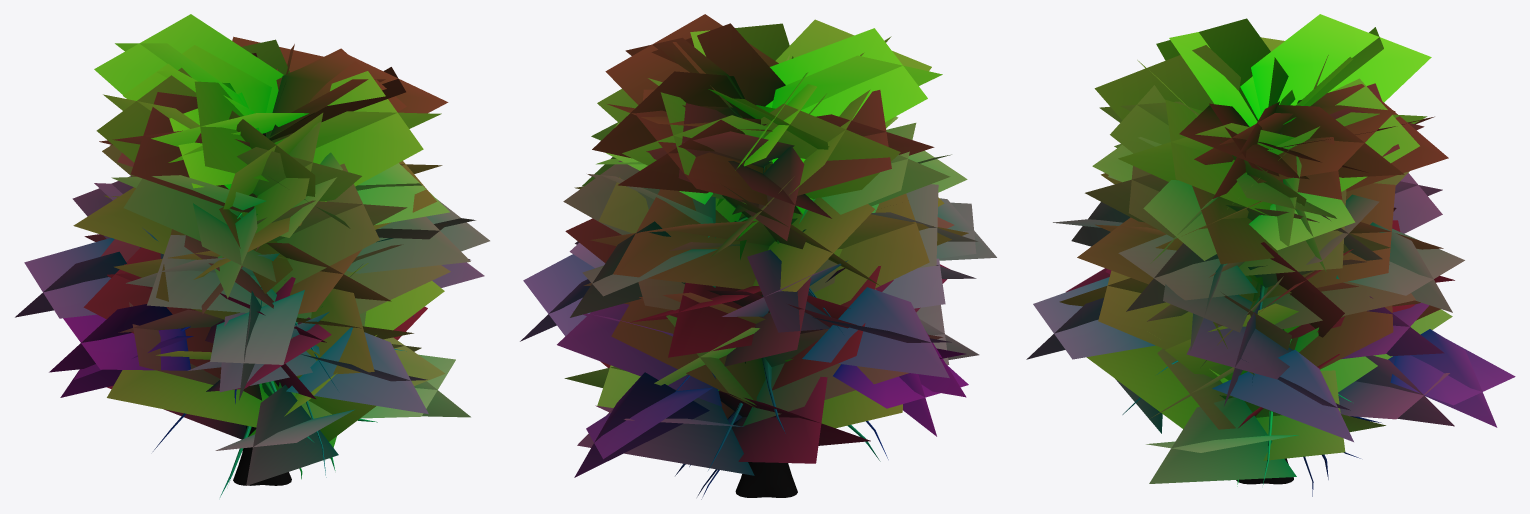
File: M_Pine_1_16.fbx
3 views of the same model, side by side, from view 1: azimuth 30°, elevation 25°; view 2: azimuth 150°, elevation 25°; view 3: azimuth 270°, elevation 25° (orthographic). The views are drawn at different scales.
Visible parts, largest first — view 1: Tree_16; view 2: Tree_16; view 3: Tree_16.
Boxes of the visible parts, bbox=[...] form: Tree_16: bbox=[15, 14, 489, 497]; Tree_16: bbox=[520, 14, 996, 499]; Tree_16: bbox=[1026, 14, 1515, 496].
Bounding box in the file's own units: 616 × 618 × 635.
